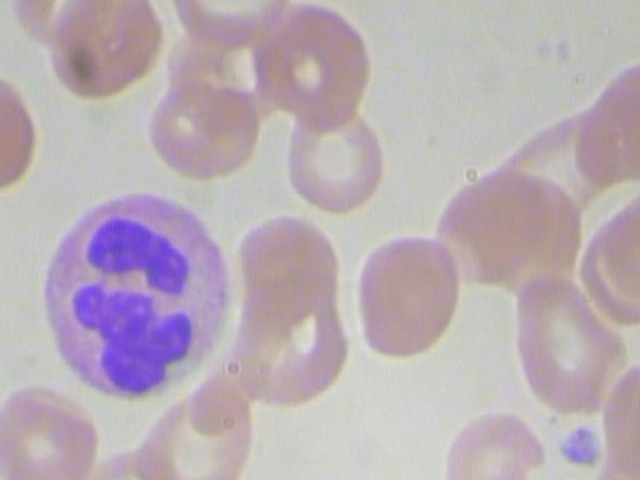Platelets: (553, 425, 606, 476)
RBC: (502, 265, 640, 422), (349, 228, 463, 373), (248, 0, 375, 129), (37, 0, 170, 108), (143, 67, 265, 184), (281, 95, 394, 218), (137, 376, 264, 480), (0, 382, 110, 480), (572, 184, 640, 330), (432, 397, 550, 480), (599, 355, 640, 480)
WBC: (26, 183, 249, 402)
